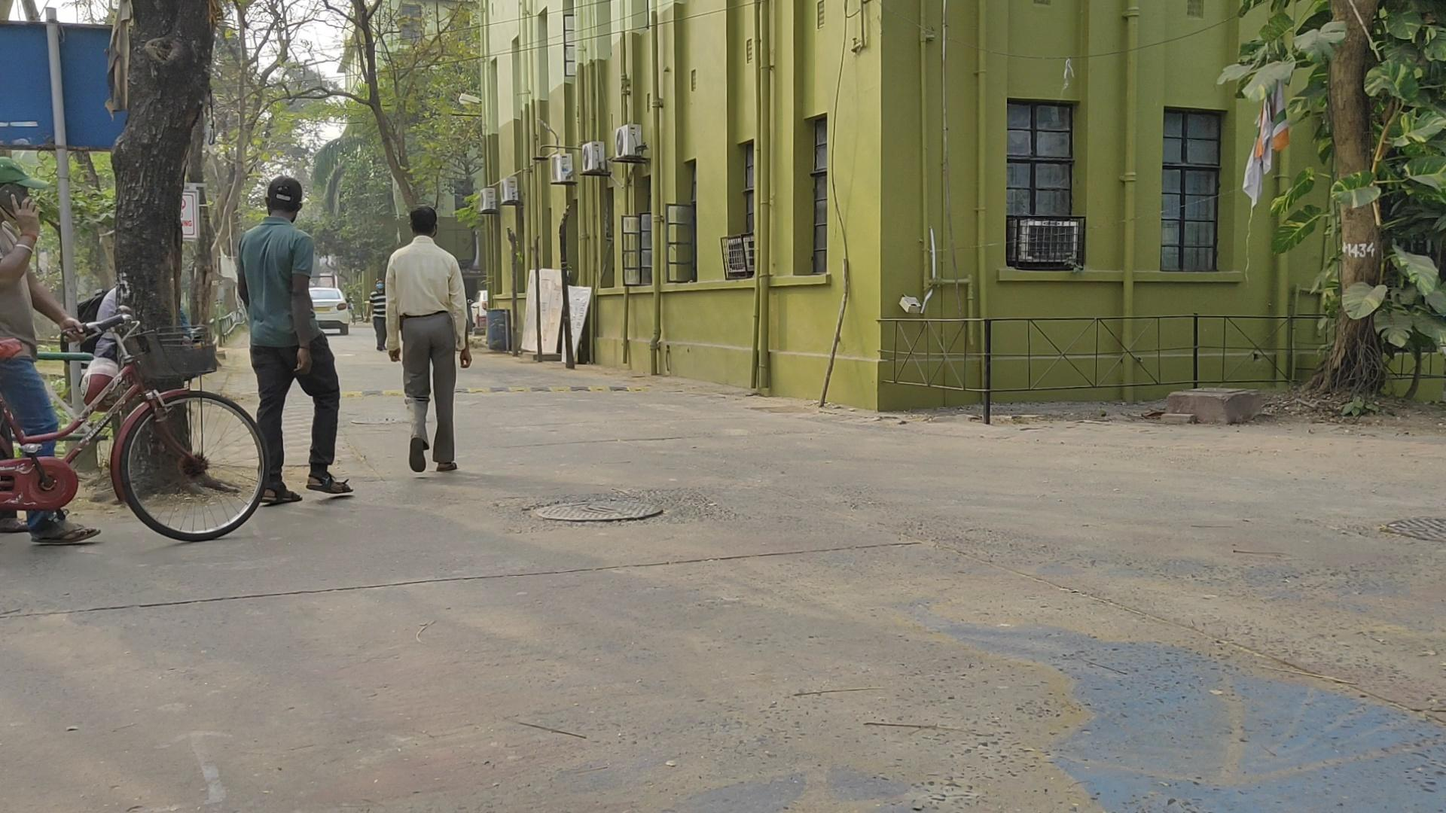bike: (1, 160, 266, 544)
car: (309, 286, 354, 336)
